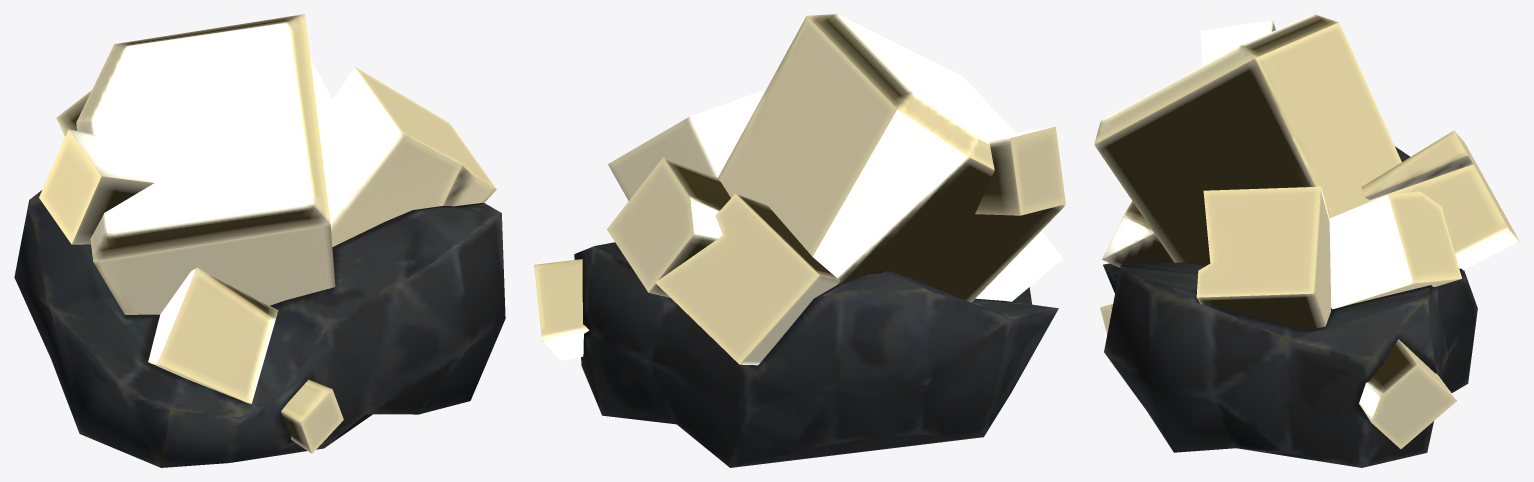
The model's file is Item_Ore_D.glb.
The picture shows the model from 3 angles, left to right: view 1: azimuth 30°, elevation 25°; view 2: azimuth 150°, elevation 25°; view 3: azimuth 270°, elevation 25°; orthographic projection. The views are drawn at different scales.
Parts seen in each view (by area): view 1: Item_Ore_D; view 2: Item_Ore_D; view 3: Item_Ore_D.
Part boxes in pixels (left/top/right/bottom): Item_Ore_D: left=14, top=14, right=505, bottom=467; Item_Ore_D: left=534, top=14, right=1065, bottom=467; Item_Ore_D: left=1094, top=14, right=1519, bottom=467.
Size of the model in its own units: 0.6294 by 0.5044 by 0.5652.
Materials: 2 (2 with a texture image).
